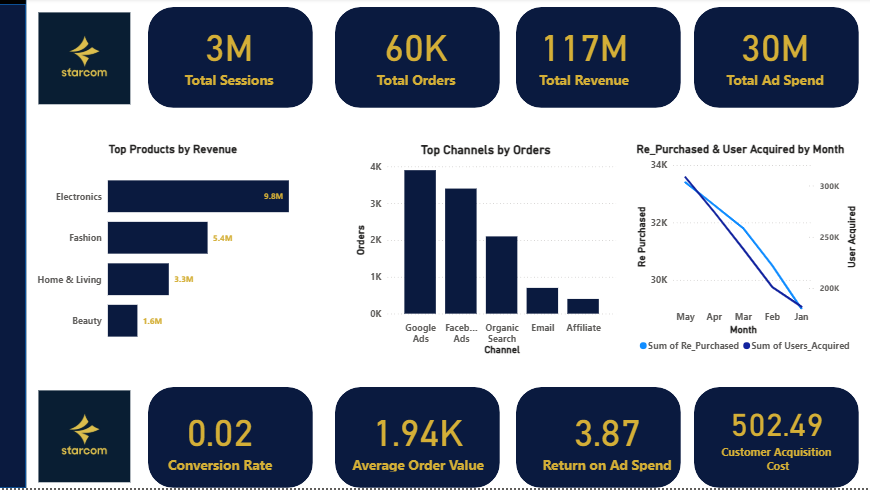

Layout of this report page (visuals, bound fields, positions):
{"tool":"powerbi","page":{"name":"Page 1","canvas":[1280,720],"ordinal":0},"visuals":[{"type":"shape","box":[0,0,40.4,719.9],"z":0},{"type":"image","box":[50,16.2,151.3,145.5],"z":1000},{"type":"shape","box":[0,8.8,39.7,711.2],"z":2000},{"type":"shape","box":[218.9,13.2,242.4,148.4],"z":3000},{"type":"card","fields":{"Values":["monthly_data.Total Sessions"]},"box":[214.5,25,246.9,110.2],"z":4000},{"type":"shape","box":[759.7,13.2,242.4,148.4],"z":10000},{"type":"shape","box":[1021.2,13.2,242.4,148.4],"z":12000},{"type":"card","fields":{"Values":["monthly_data.Total Revenue"]},"box":[736.2,25,246.9,110.2],"z":13000},{"type":"shape","box":[493.7,13.2,242.4,148.4],"z":13500},{"type":"card","fields":{"Values":["monthly_data.Total Orders"]},"box":[489.3,25,246.9,110.2],"z":14000},{"type":"card","fields":{"Values":["monthly_data.Total Ad Spend"]},"box":[1016.8,25,246.9,110.2],"z":14001},{"type":"shape","box":[493.7,571.6,242.4,148.4],"z":14002},{"type":"shape","box":[759.7,571.6,242.4,148.4],"z":14003},{"type":"shape","box":[1021.2,571.6,242.4,148.4],"z":14004},{"type":"shape","box":[218.9,571.6,242.4,148.4],"z":14005},{"type":"card","fields":{"Values":["monthly_data.Conversion Rate"]},"box":[201.3,590.7,246.9,110.2],"z":14006},{"type":"card","fields":{"Values":["monthly_data.Average Order Value"]},"box":[492.2,590.7,246.9,110.2],"z":14007},{"type":"card","fields":{"Values":["monthly_data.Return on Ad Spend"]},"box":[770,590.7,246.9,110.2],"z":14008},{"type":"card","fields":{"Values":["monthly_data.Customer Acquisition Cost"]},"box":[1053.6,543.7,177.8,176.3],"z":14009},{"type":"clusteredBarChart","title":"Top Products by Revenue","fields":{"Category":["category_data.Category"],"Y":["Sum(category_data.Revenue)"]},"box":[50,211.6,411.4,317.4],"z":14010},{"type":"clusteredColumnChart","title":"Top Channels by Orders","fields":{"Category":["channel_data.Channel"],"Y":["Sum(channel_data.Orders)"]},"box":[518.4,210.9,393.3,318.2],"z":14011},{"type":"lineChart","title":"Re_Purchased & User Acquired by Month","fields":{"Category":["cohort_data.Month"],"Y":["Sum(cohort_data.Re_Purchased)"],"Y2":["Sum(cohort_data.Users_Acquired)"]},"box":[931.4,210.9,332.5,318.2],"z":14012},{"type":"image","box":[50.1,572.1,150.2,144.8],"z":14013}]}

Visuals, with their boxes in screenshot pixels (x1, y1, x2, y2), scaled from the page's 1280x720 canvas onto the 870x493 screenshot:
shape: bbox=[0, 0, 27, 492]
image: bbox=[34, 11, 137, 111]
shape: bbox=[0, 6, 27, 492]
shape: bbox=[149, 9, 314, 111]
card - monthly_data.Total Sessions: bbox=[146, 17, 314, 93]
shape: bbox=[516, 9, 681, 111]
shape: bbox=[694, 9, 859, 111]
card - monthly_data.Total Revenue: bbox=[500, 17, 668, 93]
shape: bbox=[336, 9, 500, 111]
card - monthly_data.Total Orders: bbox=[333, 17, 500, 93]
card - monthly_data.Total Ad Spend: bbox=[691, 17, 859, 93]
shape: bbox=[336, 391, 500, 492]
shape: bbox=[516, 391, 681, 492]
shape: bbox=[694, 391, 859, 492]
shape: bbox=[149, 391, 314, 492]
card - monthly_data.Conversion Rate: bbox=[137, 404, 305, 480]
card - monthly_data.Average Order Value: bbox=[335, 404, 502, 480]
card - monthly_data.Return on Ad Spend: bbox=[523, 404, 691, 480]
card - monthly_data.Customer Acquisition Cost: bbox=[716, 372, 837, 492]
"Top Products by Revenue" clusteredBarChart: bbox=[34, 145, 314, 362]
"Top Channels by Orders" clusteredColumnChart: bbox=[352, 144, 620, 362]
"Re_Purchased & User Acquired by Month" lineChart: bbox=[633, 144, 859, 362]
image: bbox=[34, 392, 136, 491]
